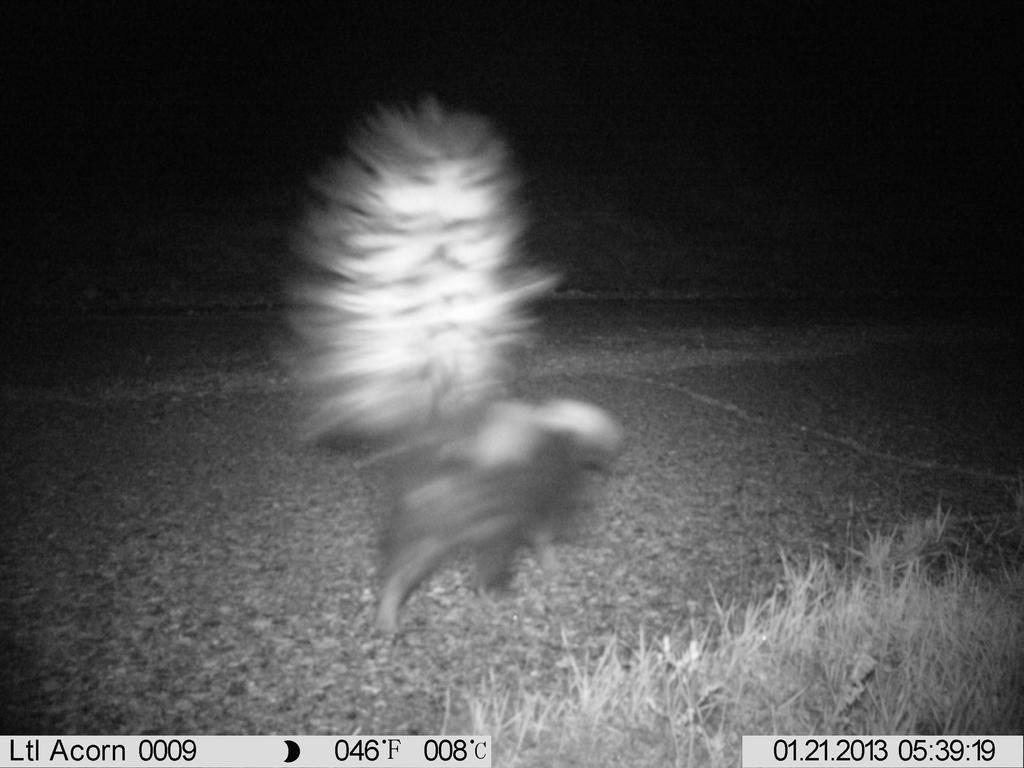skunk: (268, 98, 633, 647)
